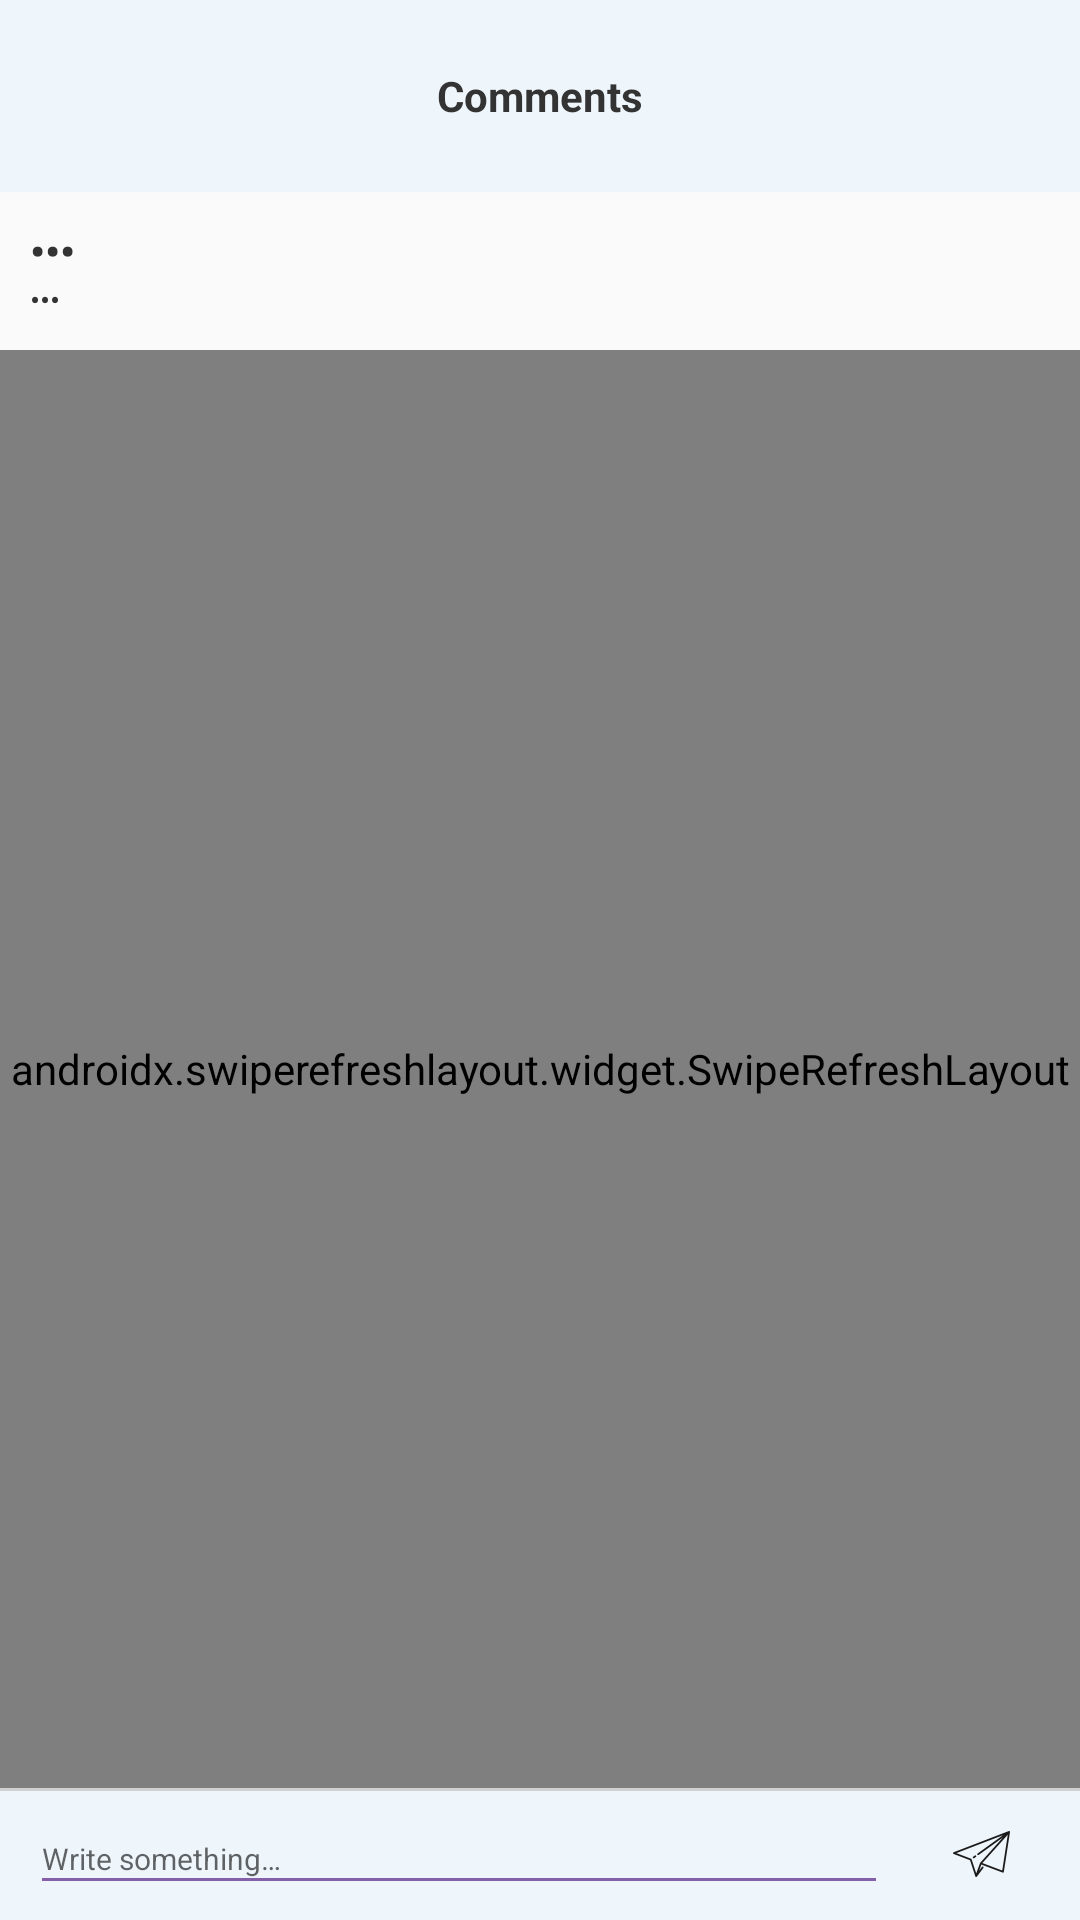

Icons on this 1080px×1920px Android screen, each with its box as (x1, y1, x2, y2):
send butt: (953, 1831, 1010, 1877)
